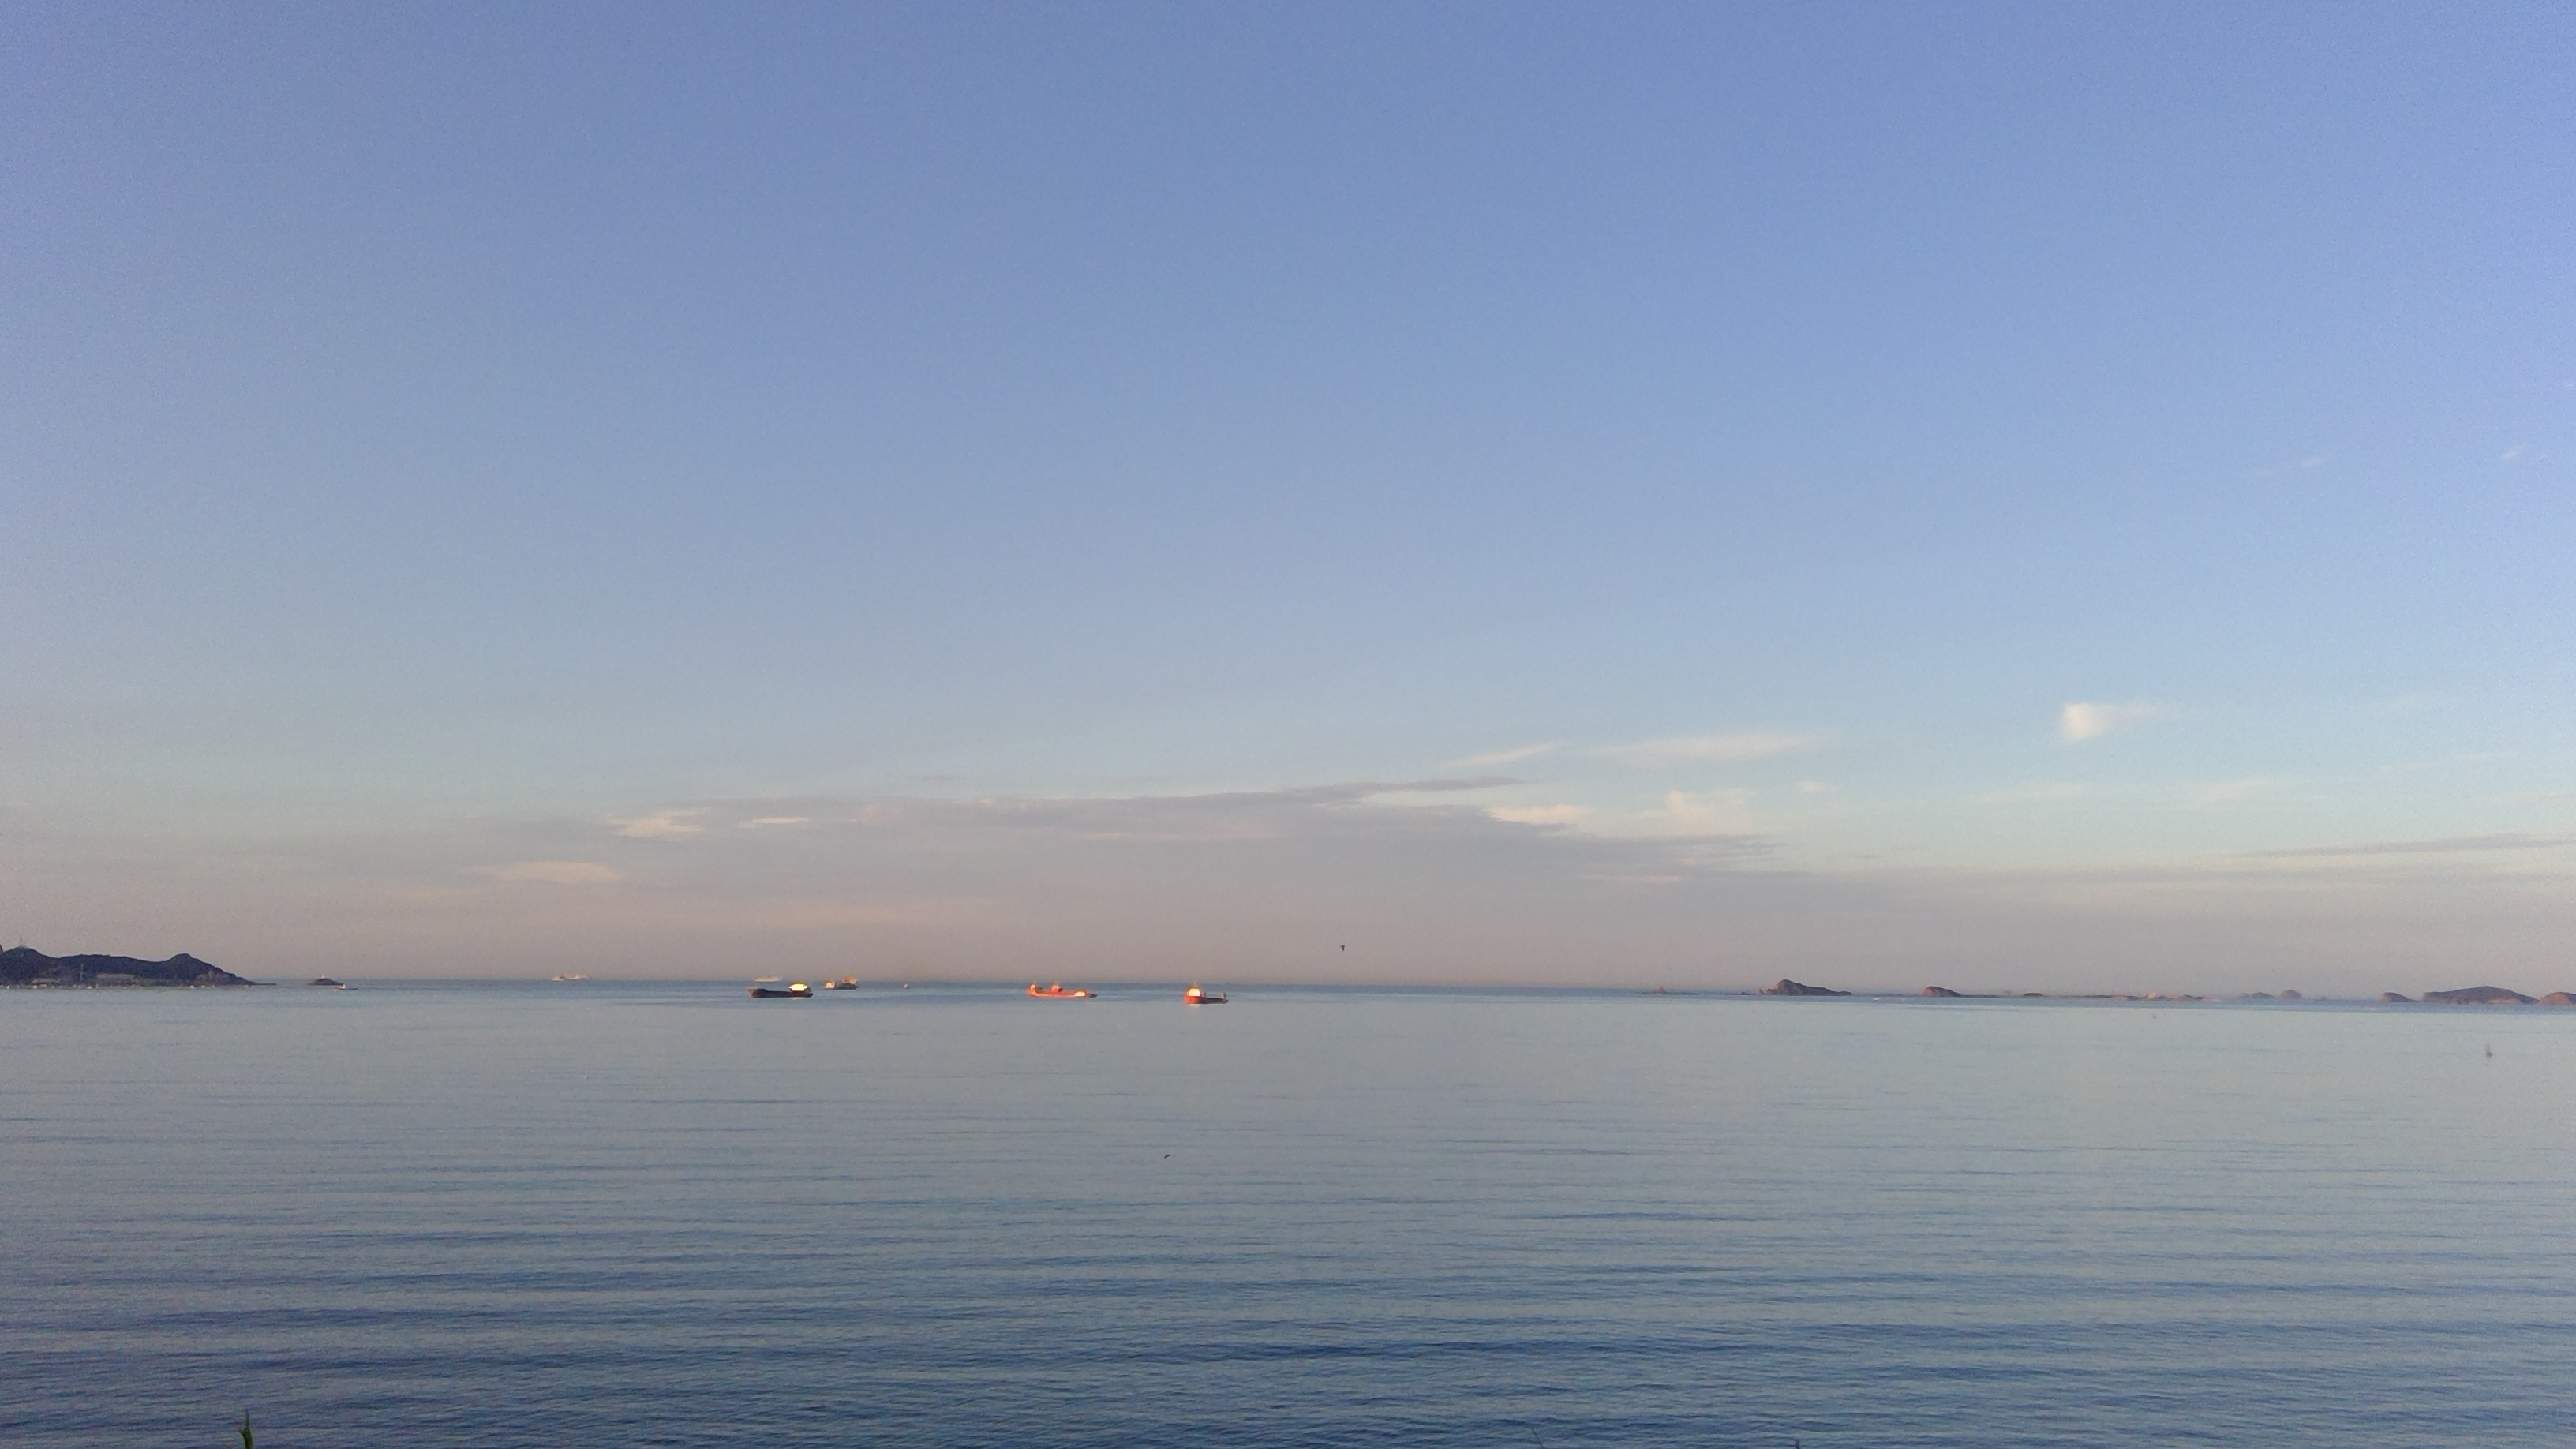rock: (0, 934, 251, 985), (2360, 964, 2576, 1021), (1757, 973, 1844, 1008)
ship: (1019, 973, 1104, 1008), (745, 973, 819, 1005), (1180, 980, 1235, 1010)
